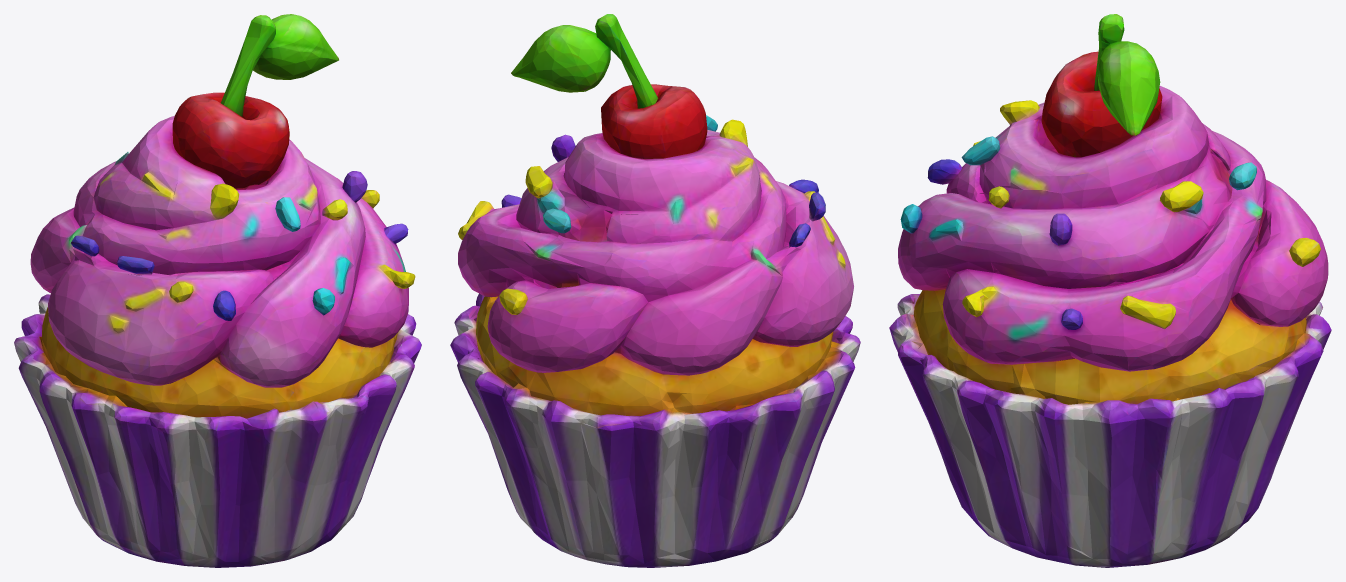
Rendered from cupcake.glb.
The picture shows the model from 3 angles, left to right: view 1: azimuth 30°, elevation 25°; view 2: azimuth 150°, elevation 25°; view 3: azimuth 270°, elevation 25°; orthographic projection. The views are drawn at different scales.
Parts seen in each view (by area): view 1: geometry_0; view 2: geometry_0; view 3: geometry_0.
Part boxes in pixels (bbox=[...]): geometry_0: bbox=[14, 14, 421, 567]; geometry_0: bbox=[450, 14, 860, 567]; geometry_0: bbox=[889, 14, 1331, 567].
Bounding box in the file's own units: 0.7697 × 0.998 × 0.775.
1 material, 1 textured.
